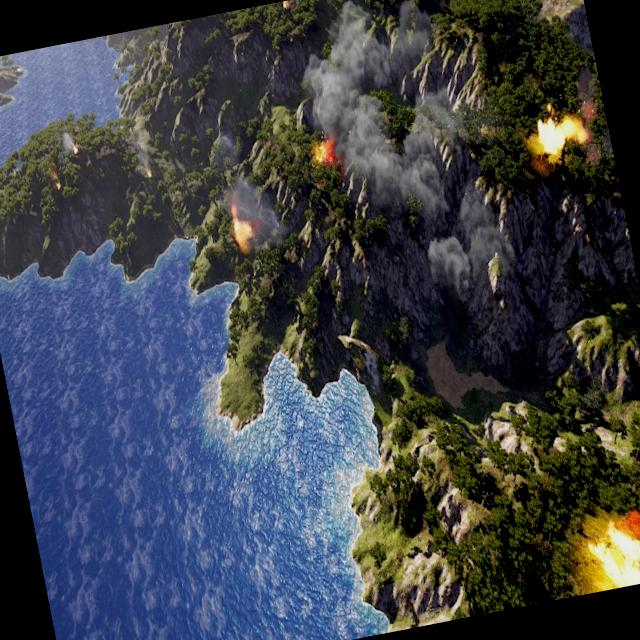fire: (584, 507, 640, 592), (533, 106, 586, 157), (230, 207, 256, 248), (314, 138, 334, 166), (284, 0, 290, 9), (72, 146, 78, 154), (57, 180, 62, 189)
smoke: (287, 0, 522, 314), (214, 143, 284, 247), (572, 65, 612, 165)
